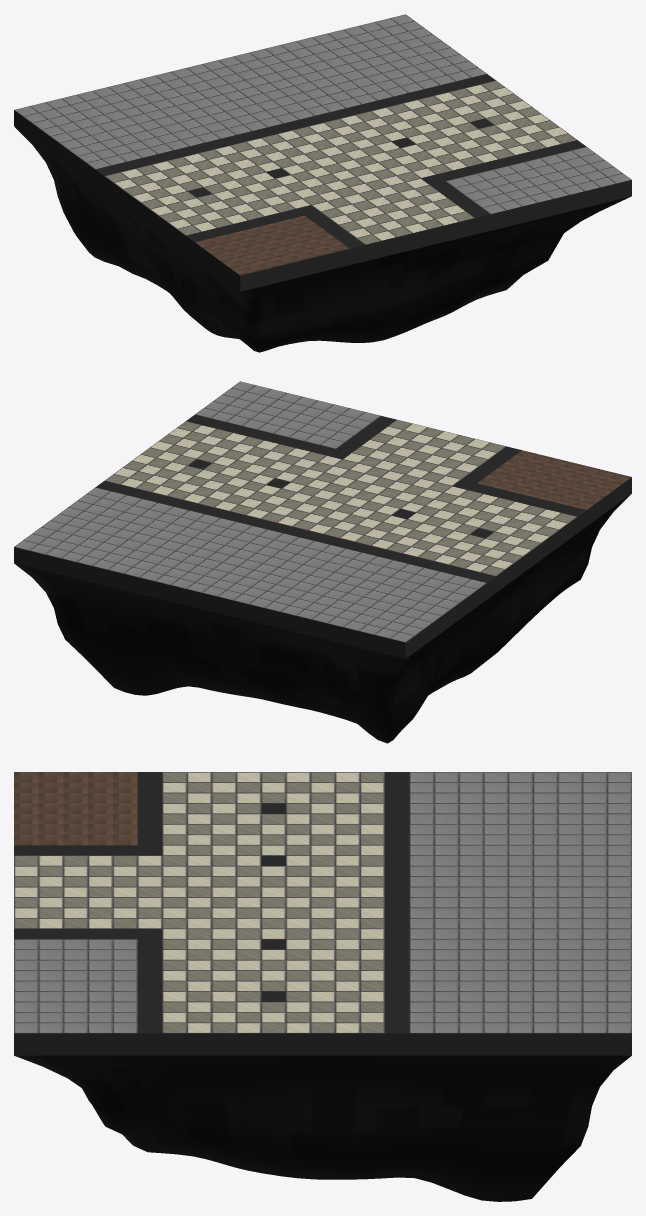
The model's file is Vault Land Chunk Restructured.FBX.
The picture shows the model from 3 angles, top to bottom: view 1: azimuth 30°, elevation 25°; view 2: azimuth 150°, elevation 25°; view 3: azimuth 270°, elevation 25°; orthographic projection. The views are drawn at different scales.
Visible parts, largest first — view 1: Vault Land Chunk; view 2: Vault Land Chunk; view 3: Vault Land Chunk.
Boxes of the visible parts, x1,y1,x2,y2 form: Vault Land Chunk: [14, 14, 631, 352]; Vault Land Chunk: [14, 381, 631, 743]; Vault Land Chunk: [14, 772, 631, 1201].
Bounding box in the file's own units: 25 × 9.68 × 25.
Materials: 7 (4 with a texture image).
